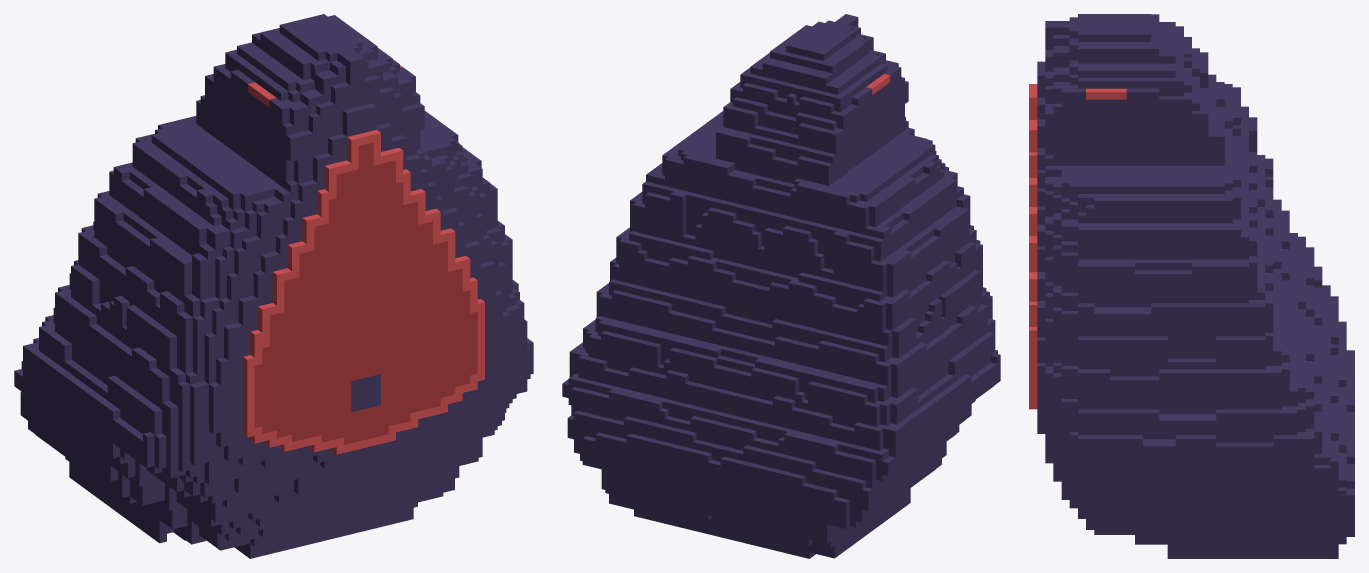
The model's file is JokerWarriror-5.obj.
The picture shows the model from 3 angles, left to right: view 1: azimuth 30°, elevation 25°; view 2: azimuth 150°, elevation 25°; view 3: azimuth 270°, elevation 25°; orthographic projection. The views are drawn at different scales.
Bounding box in the file's own units: 5.2 × 6.5 × 4.
Materials: 1 (1 with a texture image).
